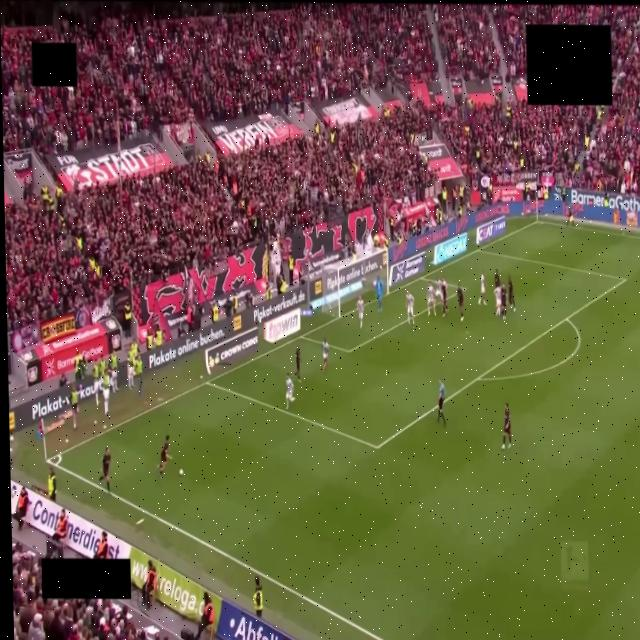ball: (179, 469, 183, 476)
player: (159, 435, 170, 478), (100, 449, 110, 491), (502, 404, 511, 450), (406, 291, 414, 326), (286, 374, 294, 409), (375, 278, 383, 312), (457, 283, 464, 321), (427, 283, 435, 315), (508, 276, 515, 312), (441, 277, 447, 315), (479, 274, 486, 306), (357, 297, 364, 329), (294, 346, 300, 382), (494, 286, 501, 316), (501, 285, 507, 320), (323, 338, 329, 371), (435, 279, 442, 302), (494, 269, 500, 287)
referee: (437, 379, 445, 425)
